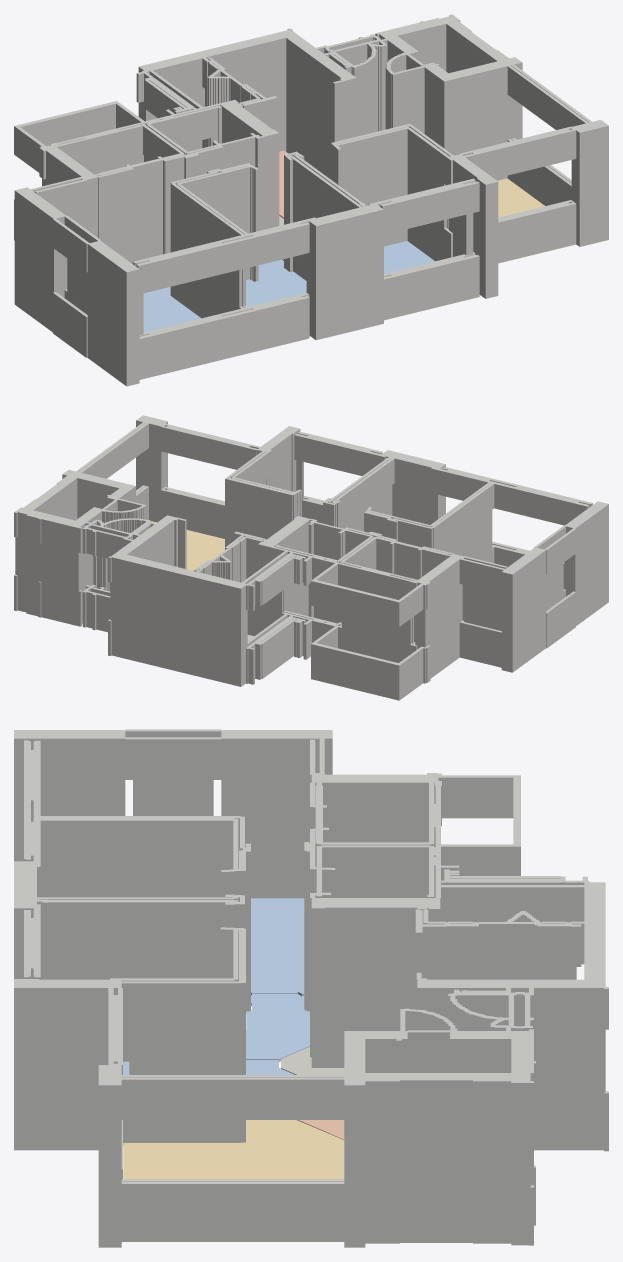
3 renders of one model, top to bottom at view 1: azimuth 30°, elevation 25°; view 2: azimuth 150°, elevation 25°; view 3: azimuth 270°, elevation 25°, orthographic. The views are drawn at different scales.
Visible parts, largest first — view 1: walls, room:bedroom:5, room:bedroom:3, room:living:7, room:bedroom:6; view 2: walls, room:living:7; view 3: walls, room:living:7, room:bedroom:3, room:bedroom:5, room:yard:0.
Boxes of the visible parts, x1,y1,x2,y2 form: walls: [14, 14, 608, 386]; room:bedroom:5: [246, 259, 306, 306]; room:bedroom:3: [143, 287, 200, 332]; room:living:7: [497, 178, 544, 217]; room:bedroom:6: [282, 241, 434, 273]; walls: [14, 415, 608, 700]; room:living:7: [150, 521, 224, 570]; walls: [14, 729, 608, 1247]; room:living:7: [123, 1120, 344, 1179]; room:bedroom:3: [251, 898, 304, 996]; room:bedroom:5: [246, 994, 309, 1061]; room:yard:0: [281, 1047, 344, 1074].
Size of the model in its own units: 13.16 by 2.8 by 9.29.
